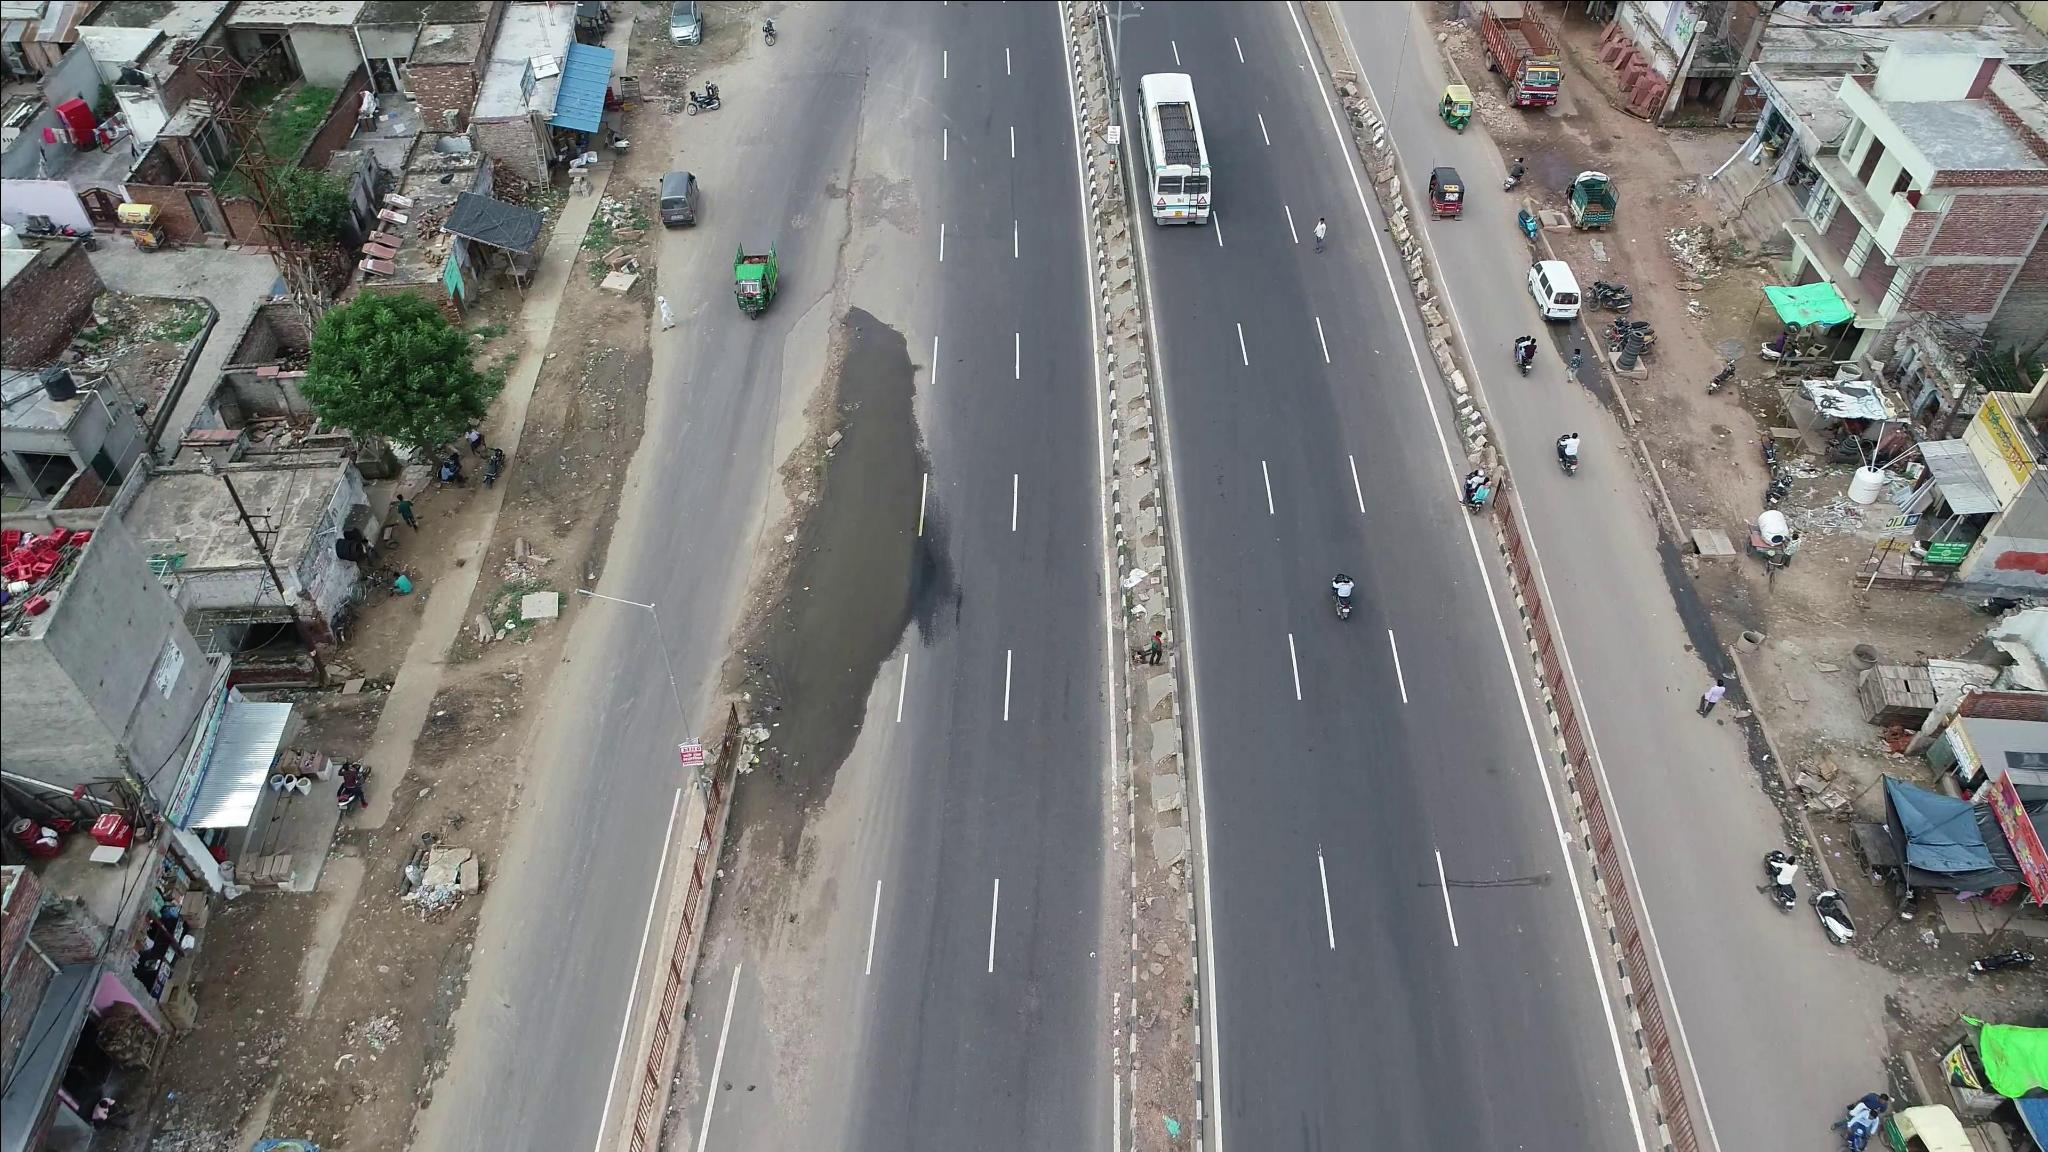Waterlogging: (798, 378, 952, 769)
